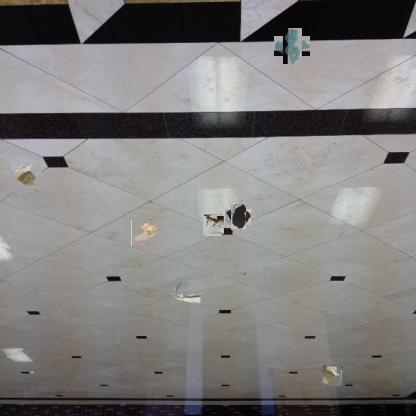dirty: (11, 162, 41, 192), (171, 278, 203, 306), (131, 220, 158, 246), (322, 366, 342, 386), (203, 216, 223, 236)
liquid: (278, 32, 306, 60), (228, 206, 249, 228)
